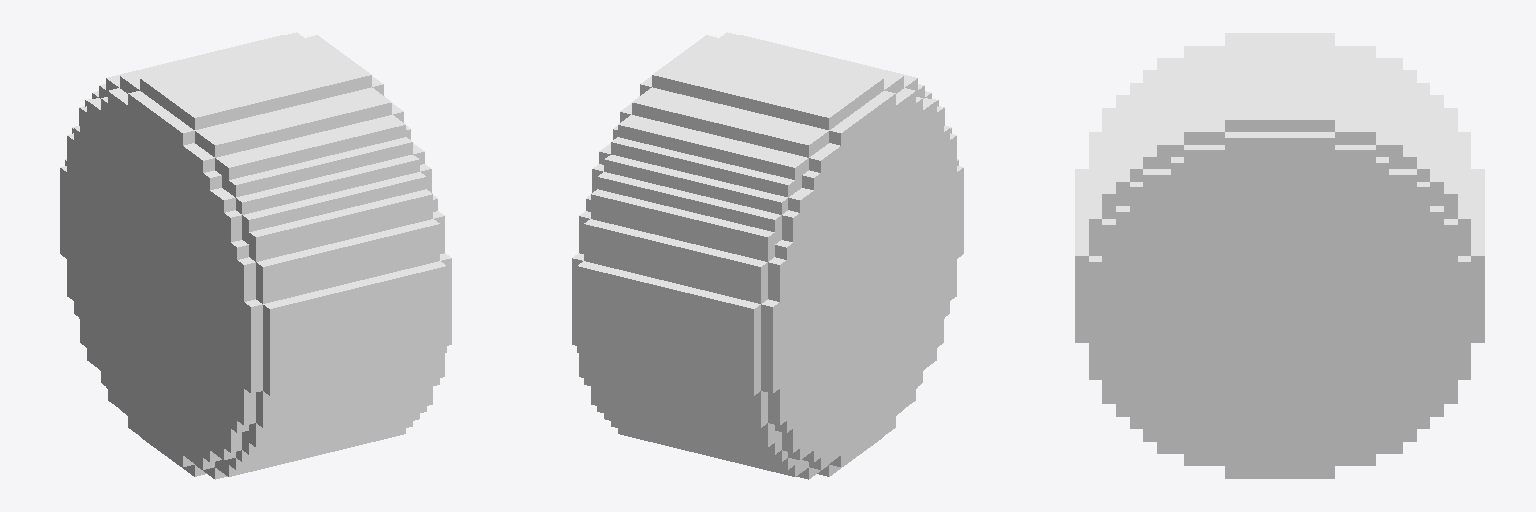
The model's file is Rover-0-Roue.obj.
3 views of the same model, side by side, from view 1: azimuth 30°, elevation 25°; view 2: azimuth 150°, elevation 25°; view 3: azimuth 270°, elevation 25° (orthographic).
Parts seen in each view (by area): view 1: Roue; view 2: Roue; view 3: Roue.
Boxes of the visible parts, x1,y1,x2,y2 form: Roue: [60, 32, 451, 479]; Roue: [572, 32, 963, 479]; Roue: [1075, 33, 1484, 478].
Bounding box in the file's own units: 1.7 × 2.9 × 3.